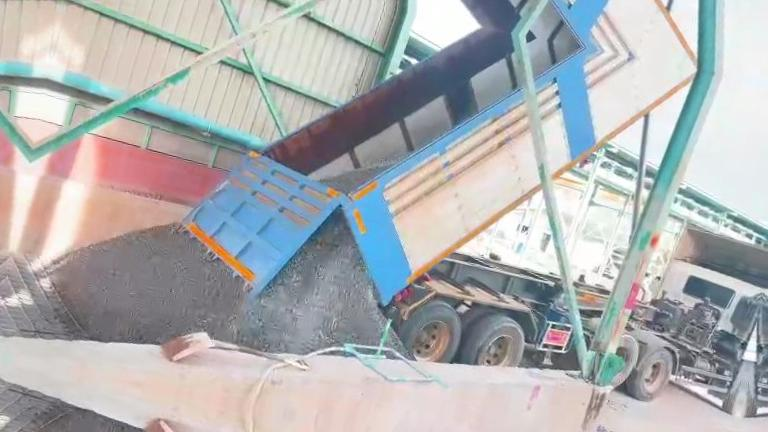gravel: (49, 211, 385, 353), (319, 158, 398, 196), (584, 426, 681, 432)
